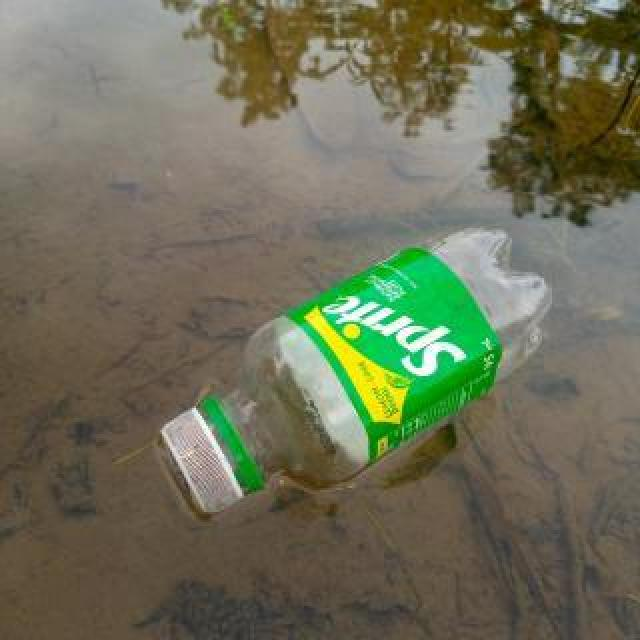bottle: (155, 223, 555, 521)
